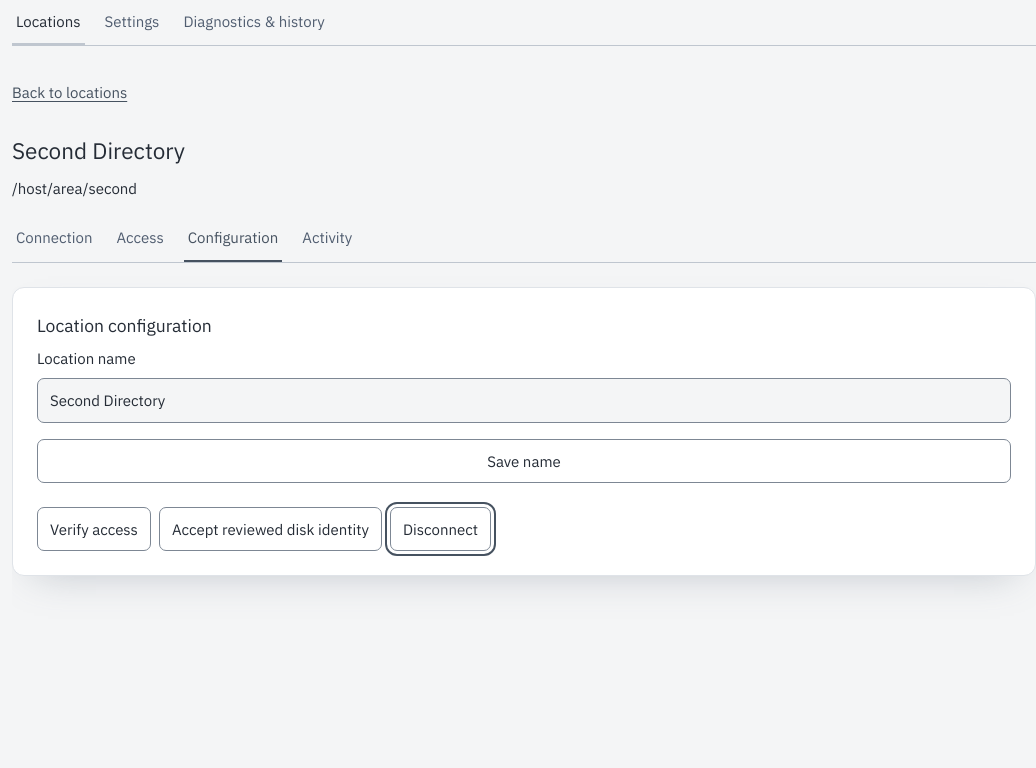
Test case: disconnect requires confirmation and preserves files
Step 1. Click the button "Disconnect" → (441, 529), box [390,507,491,551]
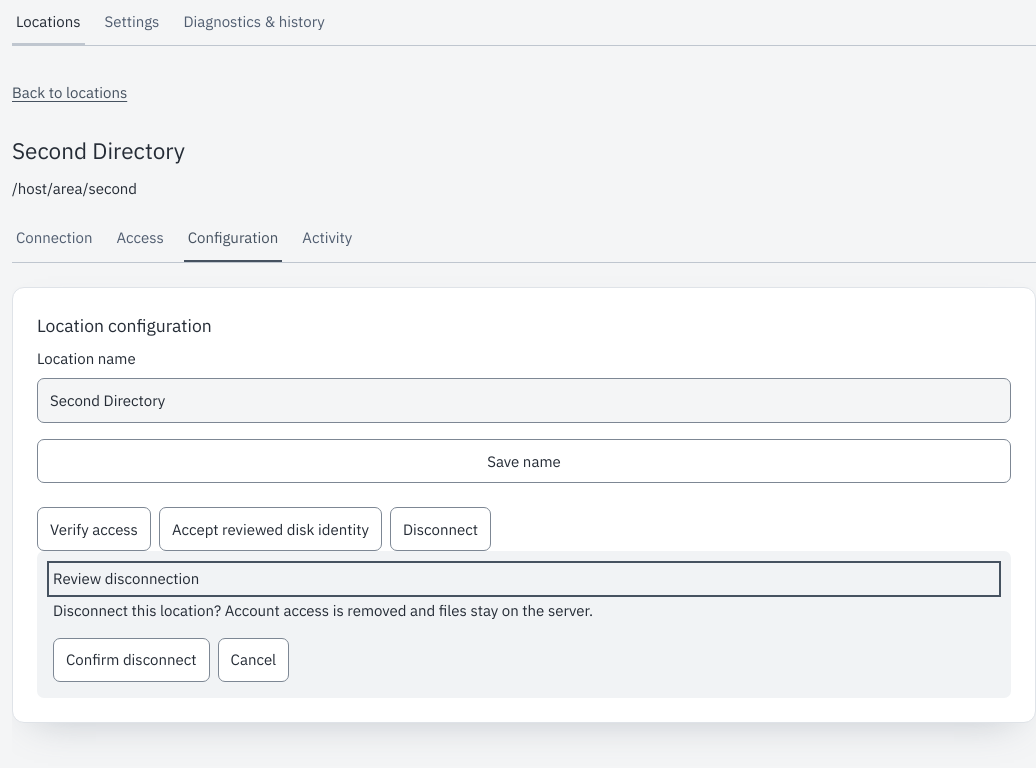
Step 2. Click the button "Cancel" → (253, 660), box [218,638,289,682]
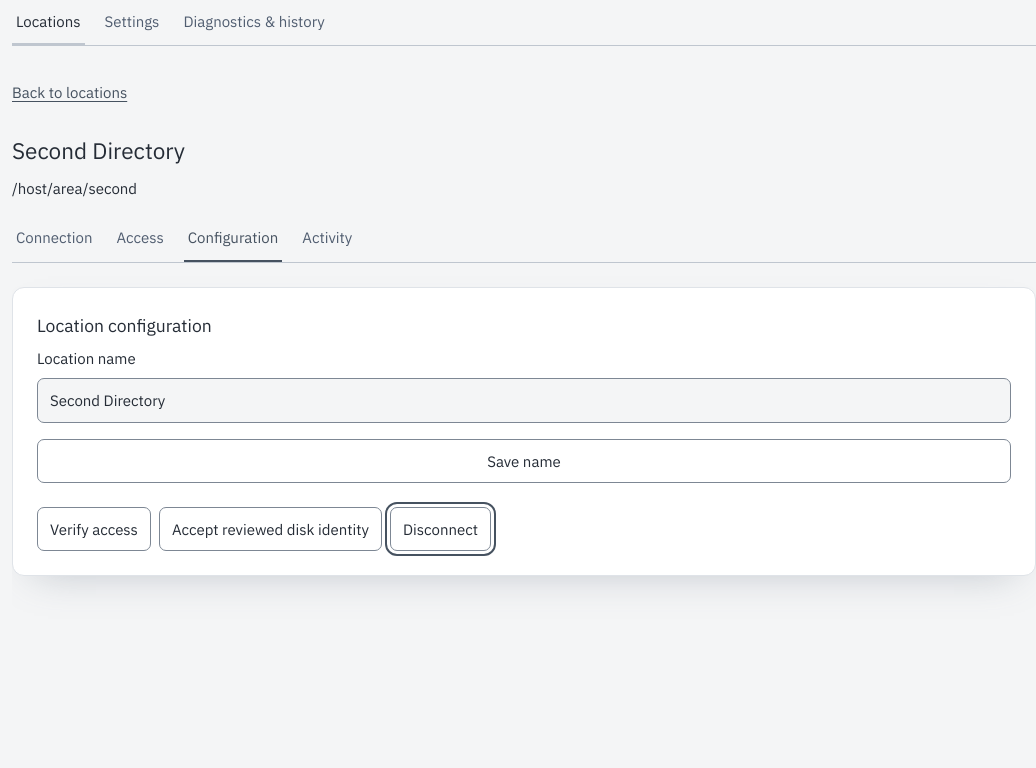
Step 3. Click the button "Disconnect" → (441, 529), box [390,507,491,551]
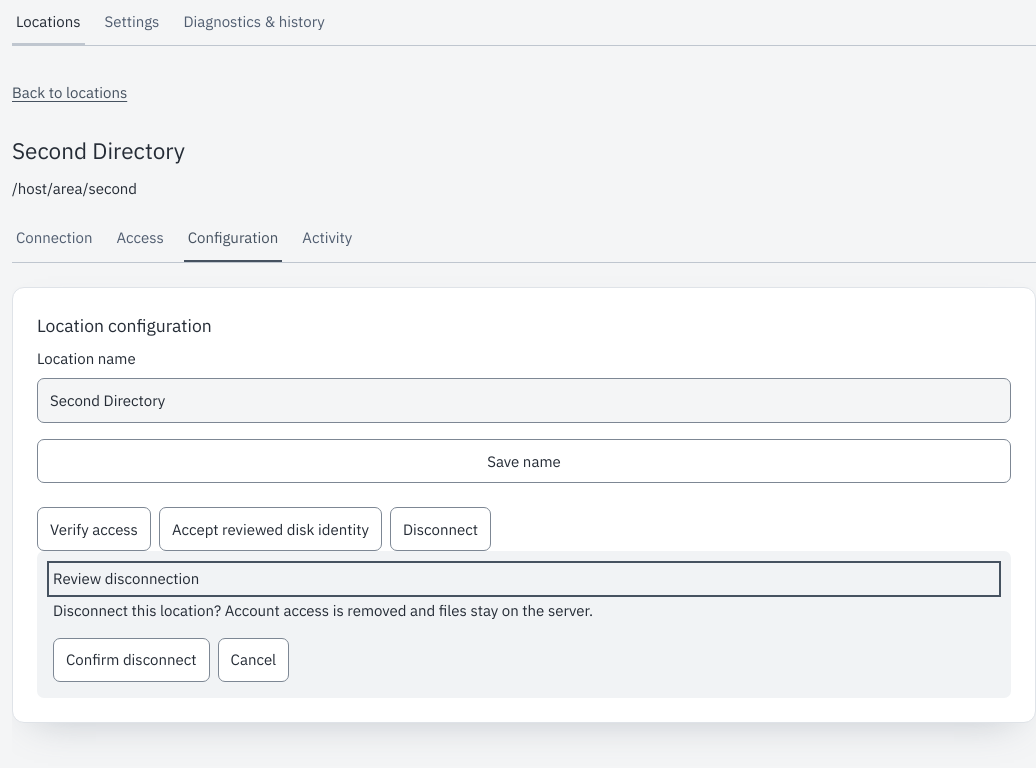
Now the text "files stay on the server" is shown, box [53,601,593,620]
Step 4. Click the button "Confirm disconnect" → (131, 660), box [53,638,210,682]
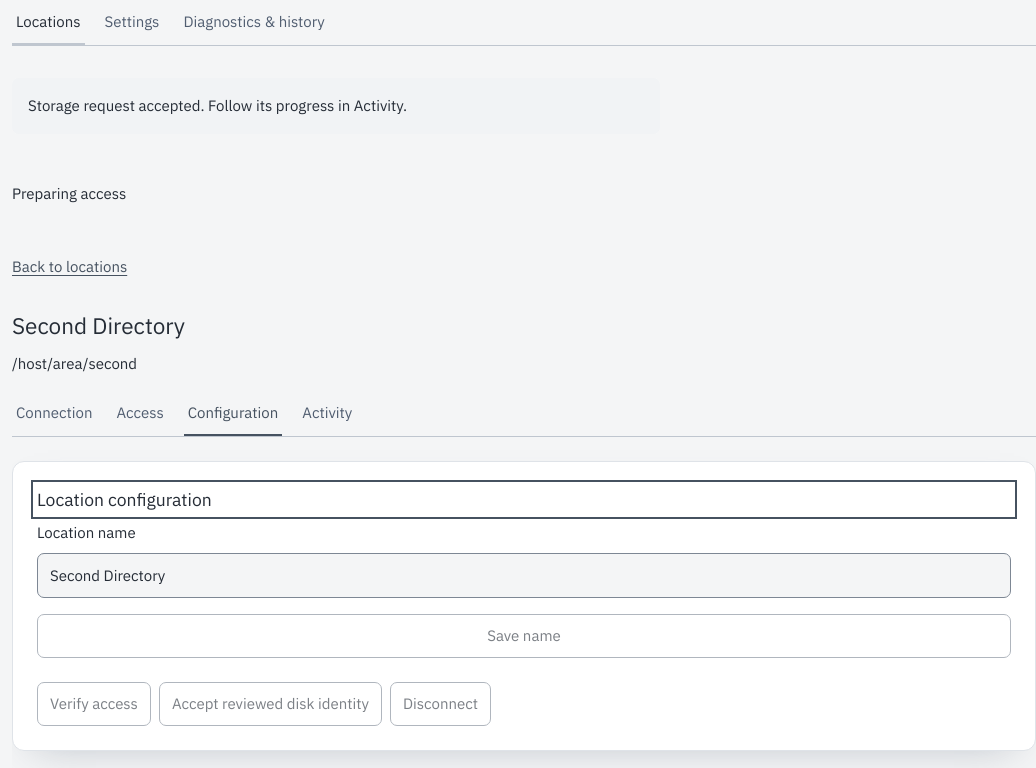
Now the button "Confirm disconnect" is gone
